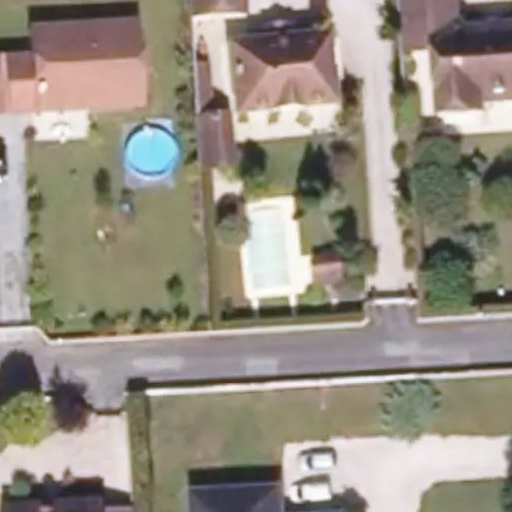pool: (234, 205, 277, 279)
